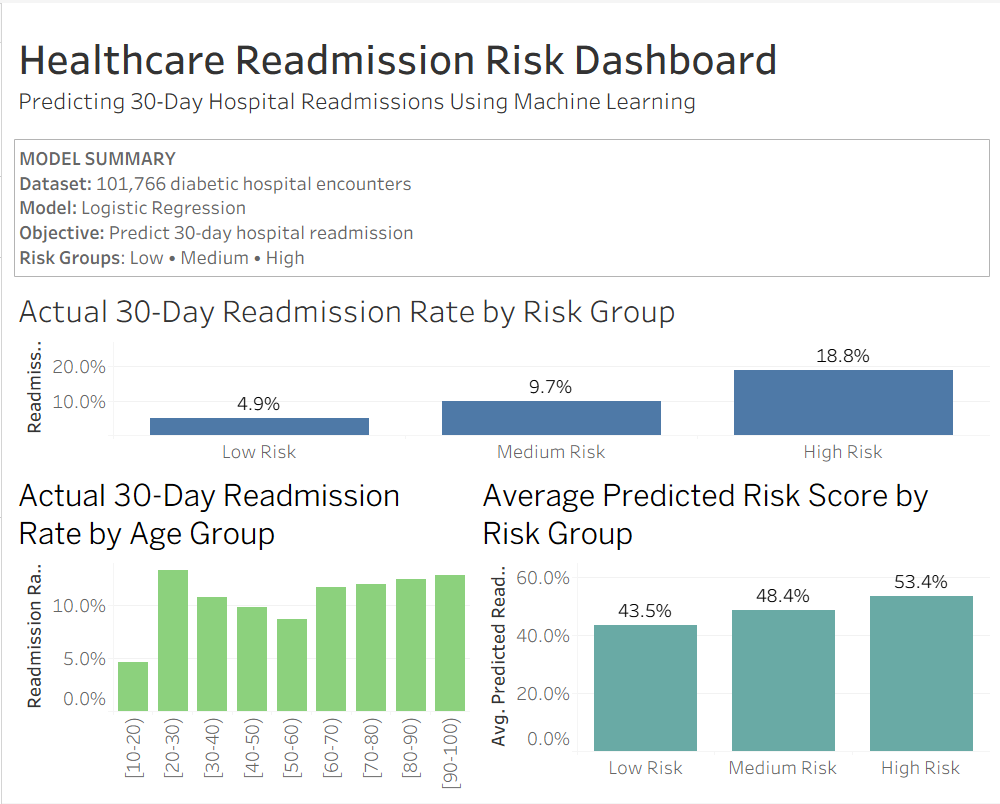

The page's visual inventory and layout, read from the dashboard file:
{"tool":"tableau","page":{"name":"Healthcare Readmission Risk Dashboard","canvas":[1000,800],"ordinal":0},"visuals":[{"type":"title","box":[8,8,984,124]},{"type":"text","box":[8,132,984,146]},{"type":"worksheet","title":"Actual 30-Day Readmission Rate by Risk Group","mark":"Automatic","rows":["actual_readmitted_30_days"],"cols":["risk_group"],"box":[8,278,984,187]},{"type":"worksheet","title":"Readmission Rate by Age Group","mark":"Automatic","rows":["actual_readmitted_30_days"],"cols":["age"],"box":[8,465,464,327]},{"type":"worksheet","title":"Average Predicted Readmission Risk by Risk Group","mark":"Automatic","rows":["predicted_readmission_risk"],"cols":["risk_group"],"box":[472,465,520,327]}]}

Visuals, with their boxes in screenshot pixels (x1, y1, x2, y2), scaled from the page's 1000x800 canvas onto the 1000x804 screenshot:
title: {"left": 8, "top": 8, "right": 992, "bottom": 133}
text: {"left": 8, "top": 133, "right": 992, "bottom": 279}
"Actual 30-Day Readmission Rate by Risk Group" worksheet: {"left": 8, "top": 279, "right": 992, "bottom": 467}
"Readmission Rate by Age Group" worksheet: {"left": 8, "top": 467, "right": 472, "bottom": 796}
"Average Predicted Readmission Risk by Risk Group" worksheet: {"left": 472, "top": 467, "right": 992, "bottom": 796}
